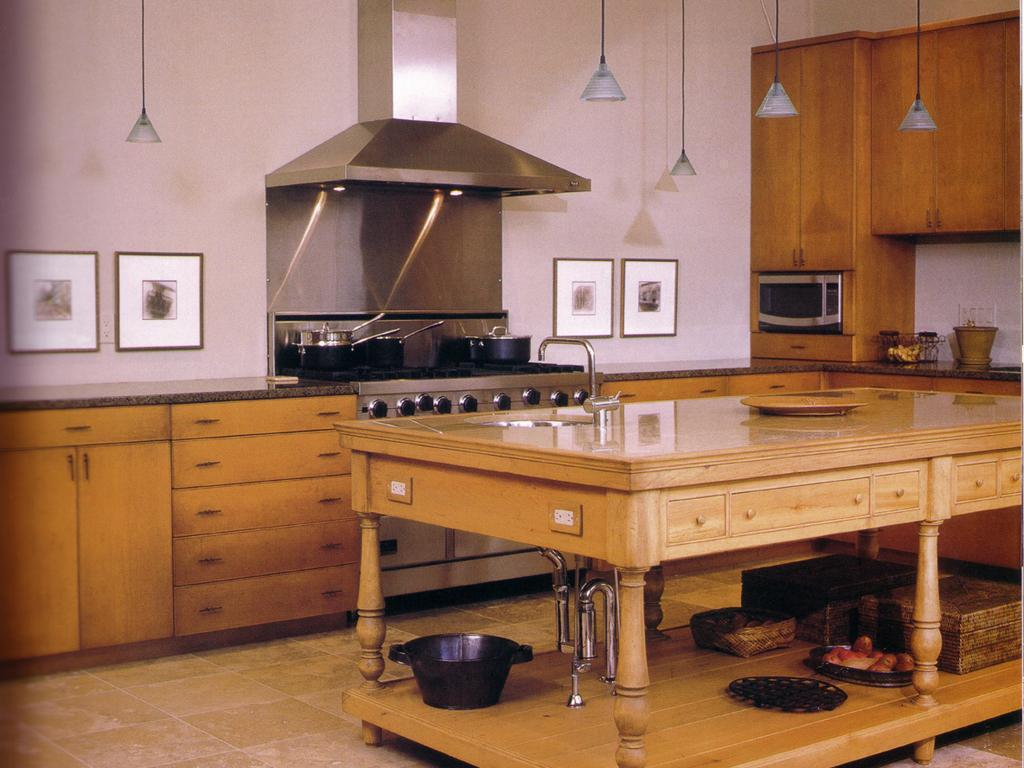Electrodomestico: (351, 362, 598, 398)
Lavaplatos: (430, 313, 633, 436)
